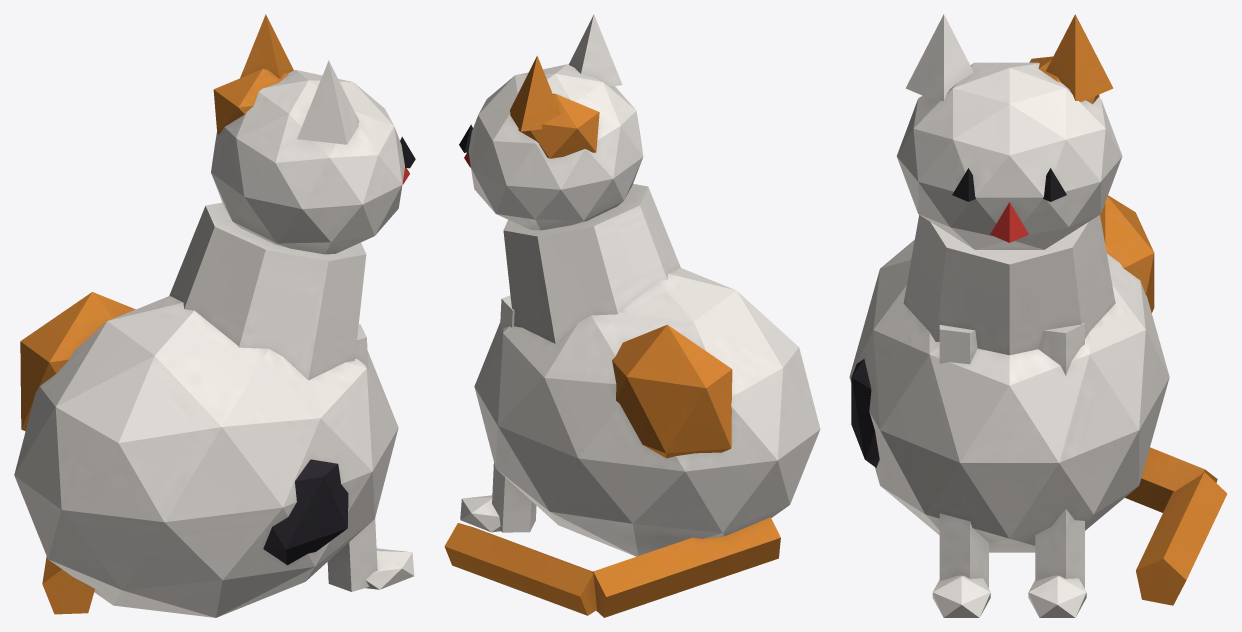
File: katt_tex.glb
The picture shows the model from 3 angles, left to right: view 1: azimuth 30°, elevation 25°; view 2: azimuth 150°, elevation 25°; view 3: azimuth 270°, elevation 25°; orthographic projection. The views are drawn at different scales.
Visible parts, largest first — view 1: katt; view 2: katt; view 3: katt.
Boxes of the visible parts, <box> form: katt: <box>14,14,415,617</box>; katt: <box>444,14,820,617</box>; katt: <box>849,14,1227,617</box>.
Bounding box in the file's own units: 0.3278 × 0.46 × 0.2762.
Materials: 5 (3 with a texture image).
